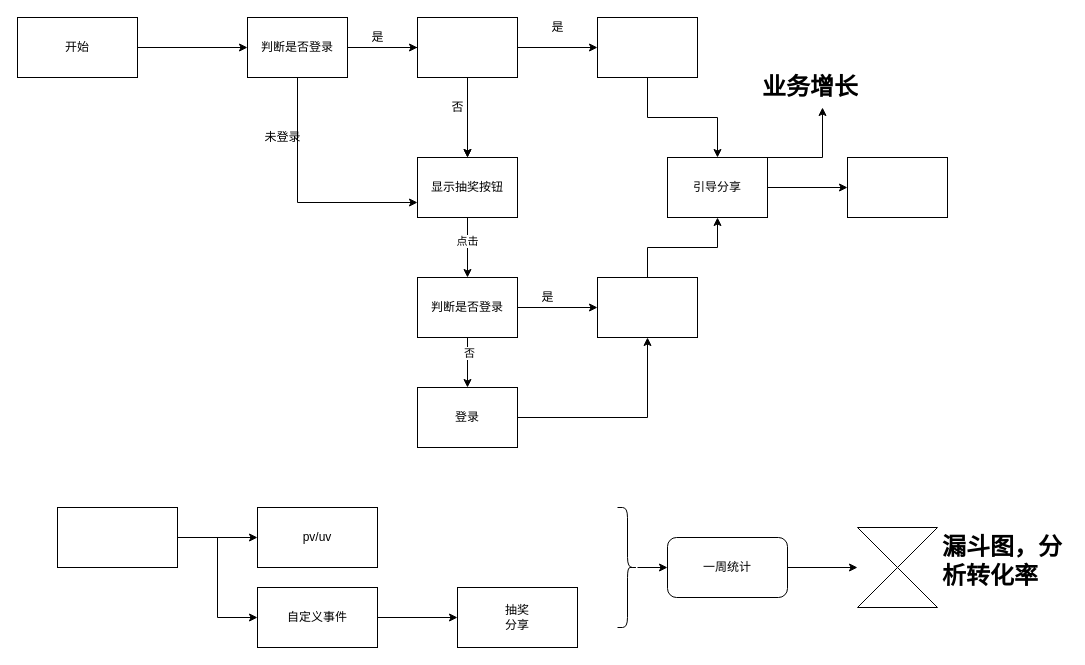
This 1085x665 diagram has some shape labels left out. The shapes that lost their labels are listed below. From the top down, each one's box as (x1, y1, x2, y2) in pixels, then its label:
(416, 16, 518, 78): 判断是否已经抽过奖
(596, 16, 698, 78): 返回之前抽奖结果
(846, 156, 948, 218): 结束
(596, 276, 698, 338): 抽奖结果
(56, 506, 178, 568): 统计
